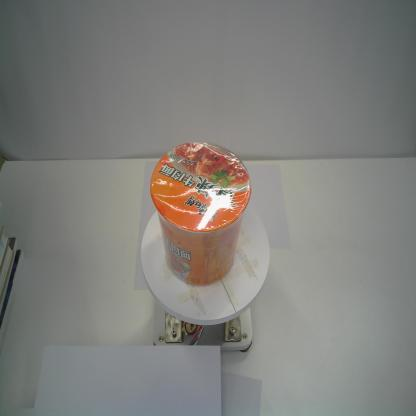Instant Noodles: (150, 138, 252, 286)
